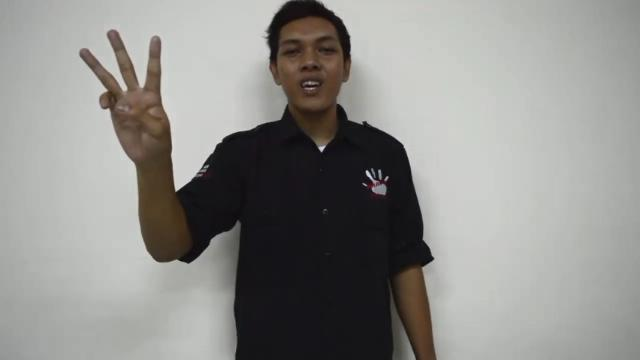W: (77, 28, 173, 162)
